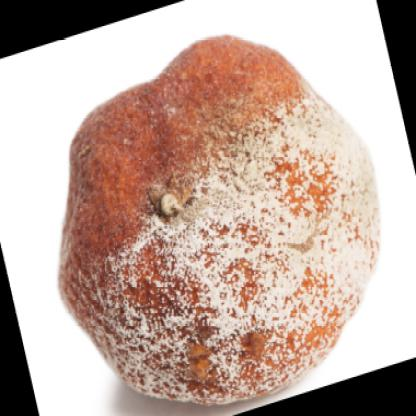rotten_orange: (40, 31, 379, 409)
